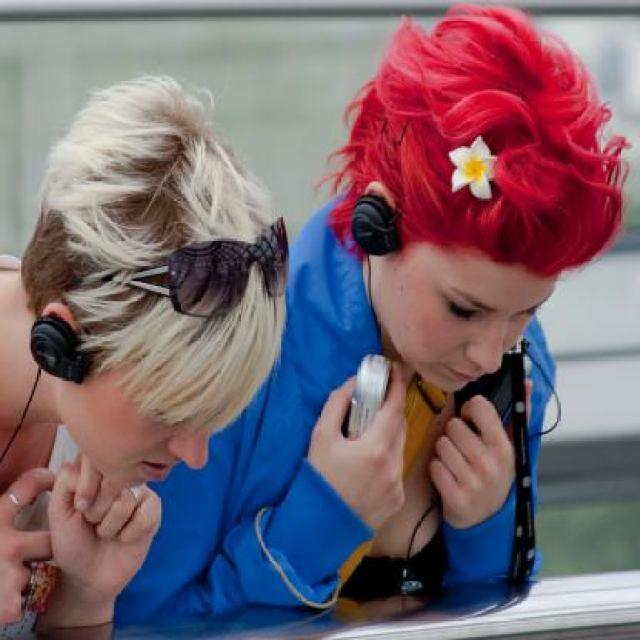earphone: (28, 304, 122, 388), (355, 186, 413, 272)
